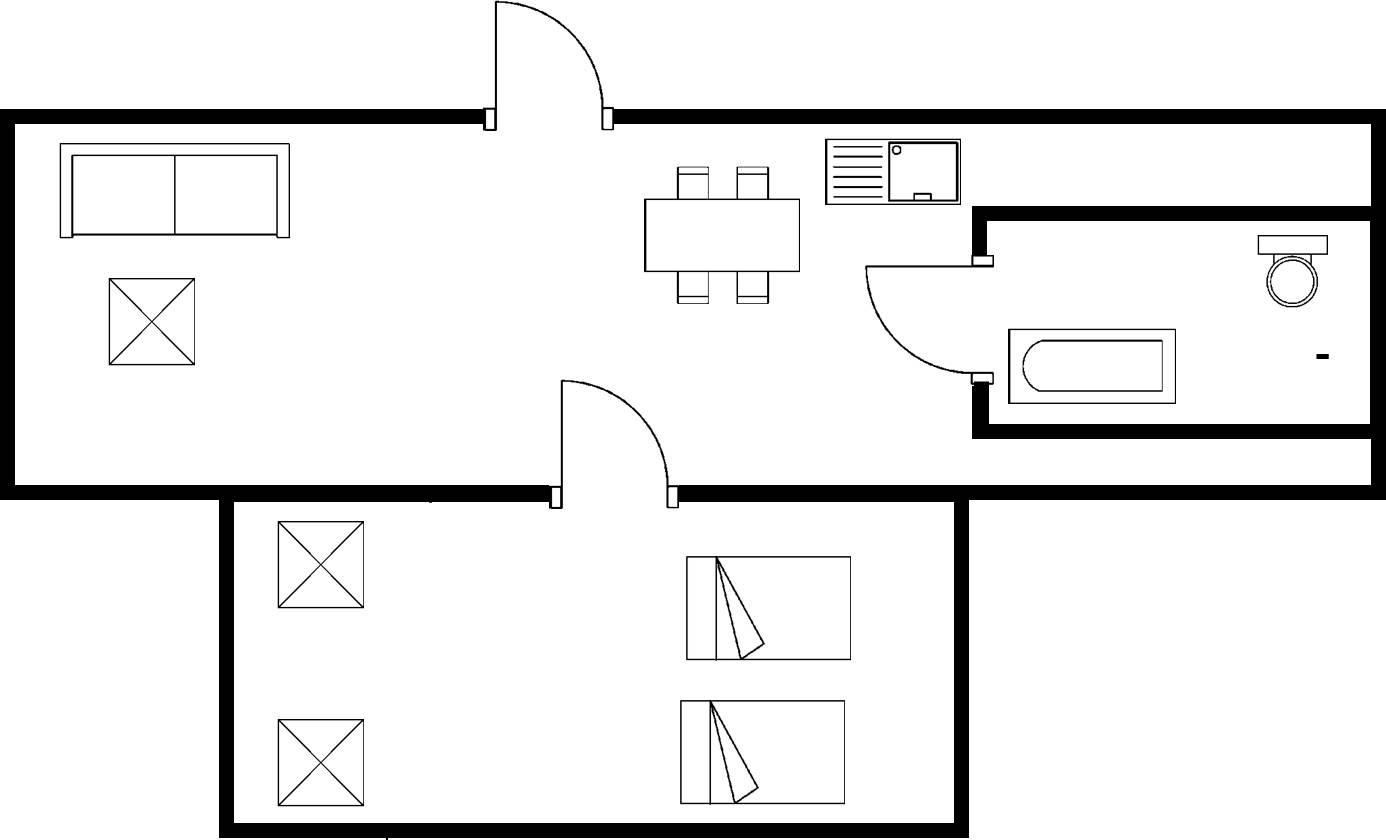bed: (673, 694, 850, 810), (679, 551, 855, 667)
dining_table: (635, 160, 807, 308)
sink: (818, 133, 965, 208)
sofa: (52, 135, 295, 248)
toilet: (1250, 228, 1331, 312)
tub: (999, 322, 1179, 407)
